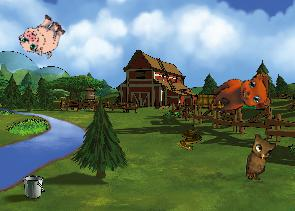bear: (206, 65, 276, 128)
owl: (245, 133, 277, 182)
pig: (14, 8, 70, 64)
